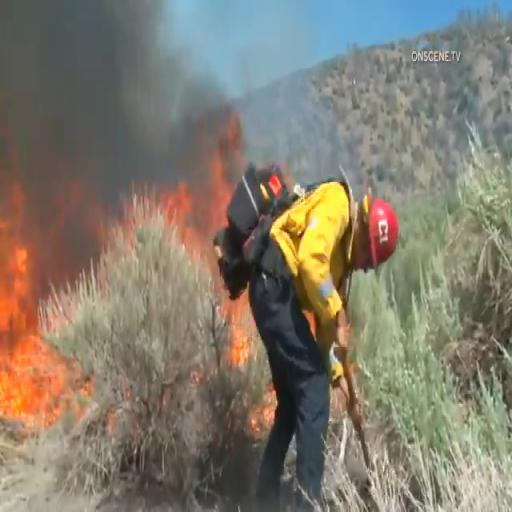fire: (0, 185, 67, 417)
smoke: (60, 11, 170, 111)
